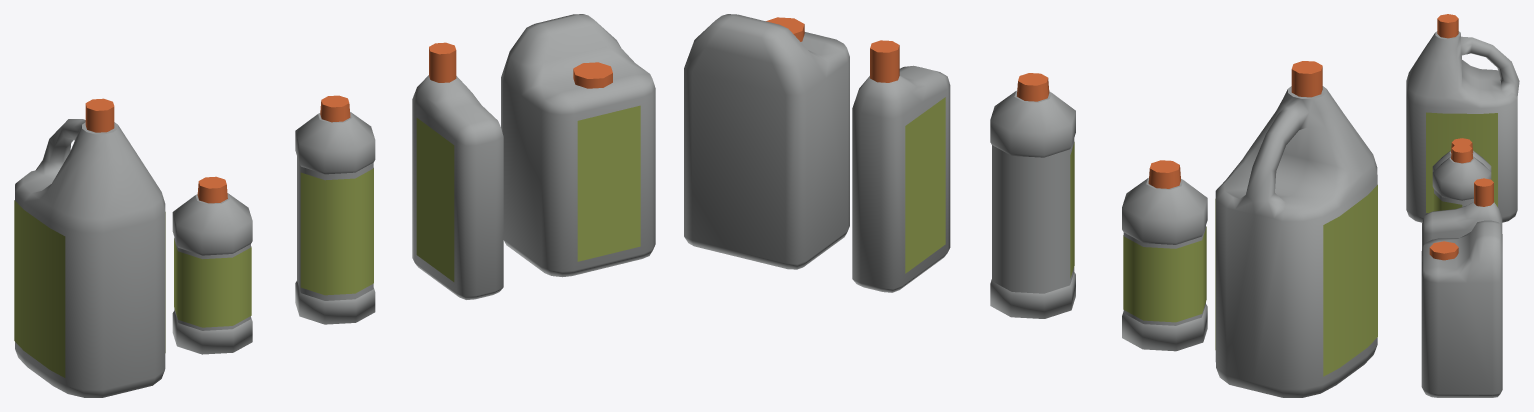
3 views of the same model, side by side, from view 1: azimuth 30°, elevation 25°; view 2: azimuth 150°, elevation 25°; view 3: azimuth 270°, elevation 25° (orthographic). The views are drawn at different scales.
Parts seen in each view (by area): view 1: BottlePlastic1, BottlePlastic5, BottlePlastic4, BottlePlastic5.002, BottlePlastic3.002, BottlePlastic1.002, BottlePlastic3, BottlePlastic2, BottlePlastic2.002, BottlePlastic4.002, BottlePlastic4.1, BottlePlastic1.1 (+3 smaller); view 2: BottlePlastic5, BottlePlastic1, BottlePlastic3, BottlePlastic4, BottlePlastic1.002, BottlePlastic2, BottlePlastic2.002, BottlePlastic4.002, BottlePlastic4.1, BottlePlastic1.1, BottlePlastic2.1, BottlePlastic3.1 (+1 smaller); view 3: BottlePlastic5, BottlePlastic1, BottlePlastic1.002, BottlePlastic4, BottlePlastic3, BottlePlastic4.1, BottlePlastic1.1, BottlePlastic5.1, BottlePlastic3.1, BottlePlastic3.002, BottlePlastic2, BottlePlastic2.1.
Boxes of the visible parts, x1,y1,x2,y2 form: BottlePlastic1: (15,119,165,397); BottlePlastic5: (501,14,655,277); BottlePlastic4: (412,75,503,299); BottlePlastic5.002: (577,105,640,261); BottlePlastic3.002: (300,168,373,295); BottlePlastic1.002: (14,200,165,377); BottlePlastic3: (295,112,375,324); BottlePlastic2: (172,193,252,354); BottlePlastic2.002: (174,238,251,327); BottlePlastic4.002: (416,118,454,281); BottlePlastic4.1: (429,42,456,82); BottlePlastic1.1: (85,98,114,132); BottlePlastic5: (684,14,849,269); BottlePlastic1: (1215,86,1377,397); BottlePlastic3: (990,90,1075,318); BottlePlastic4: (852,65,950,292); BottlePlastic1.002: (1215,185,1377,376); BottlePlastic2: (1122,178,1207,351); BottlePlastic2.002: (1123,226,1206,322); BottlePlastic4.002: (905,97,945,273); BottlePlastic4.1: (870,40,899,82); BottlePlastic1.1: (1291,61,1322,97); BottlePlastic2.1: (1148,160,1180,188); BottlePlastic3.1: (1017,73,1049,101); BottlePlastic5: (1421,220,1502,397); BottlePlastic1: (1406,31,1519,222); BottlePlastic1.002: (1426,112,1497,213); BottlePlastic4: (1422,202,1502,249); BottlePlastic3: (1432,156,1491,206); BottlePlastic4.1: (1474,178,1493,206); BottlePlastic1.1: (1437,14,1458,38); BottlePlastic5.1: (1429,241,1458,260); BottlePlastic3.1: (1451,144,1473,163); BottlePlastic3.002: (1433,193,1462,211); BottlePlastic2: (1432,150,1491,171); BottlePlastic2.1: (1451,138,1473,152).
Size of the model in its own units: 4.89 by 2.1 by 1.13.
